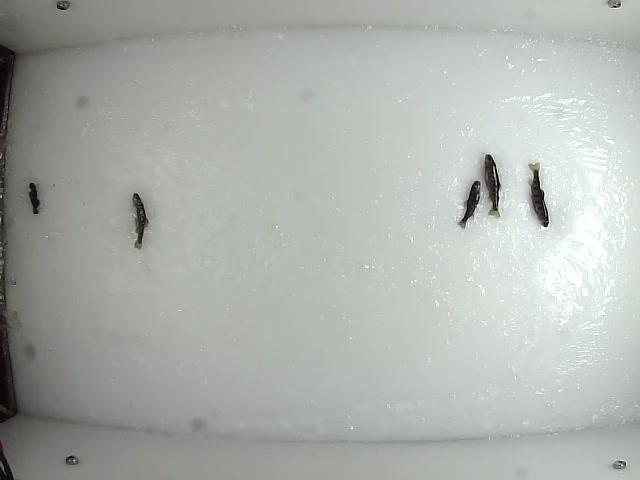fish: (527, 161, 551, 229), (482, 152, 503, 219), (457, 178, 484, 230), (129, 190, 151, 249), (27, 180, 43, 215)
